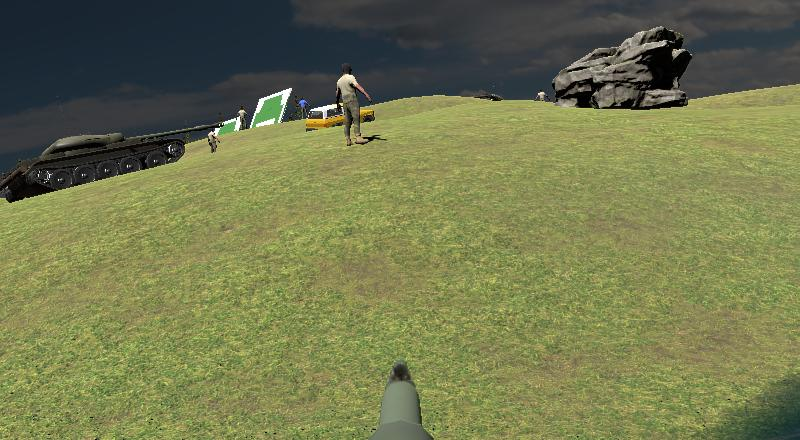Human: (333, 59, 376, 151), (205, 126, 223, 156), (296, 94, 312, 121), (237, 104, 249, 132)
Tank: (1, 117, 229, 204)
car: (302, 102, 377, 140)
